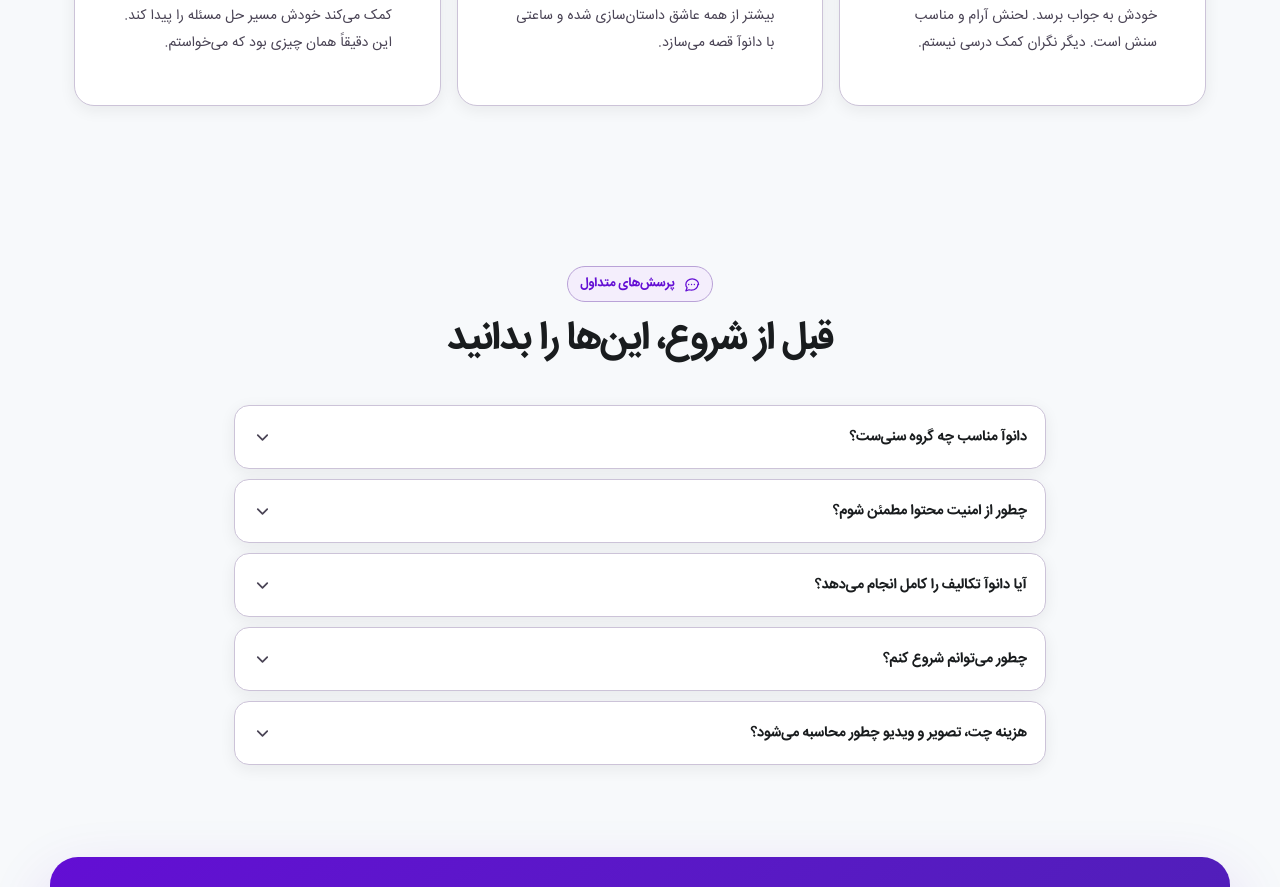
Scenario: LandingPage — FAQ keyboard › toggles FAQ answer on click
(page scrolled)
Click the button "دانوآ مناسب چه گروه سنی‌ست؟" at (938, 437), box [235, 406, 1045, 468]
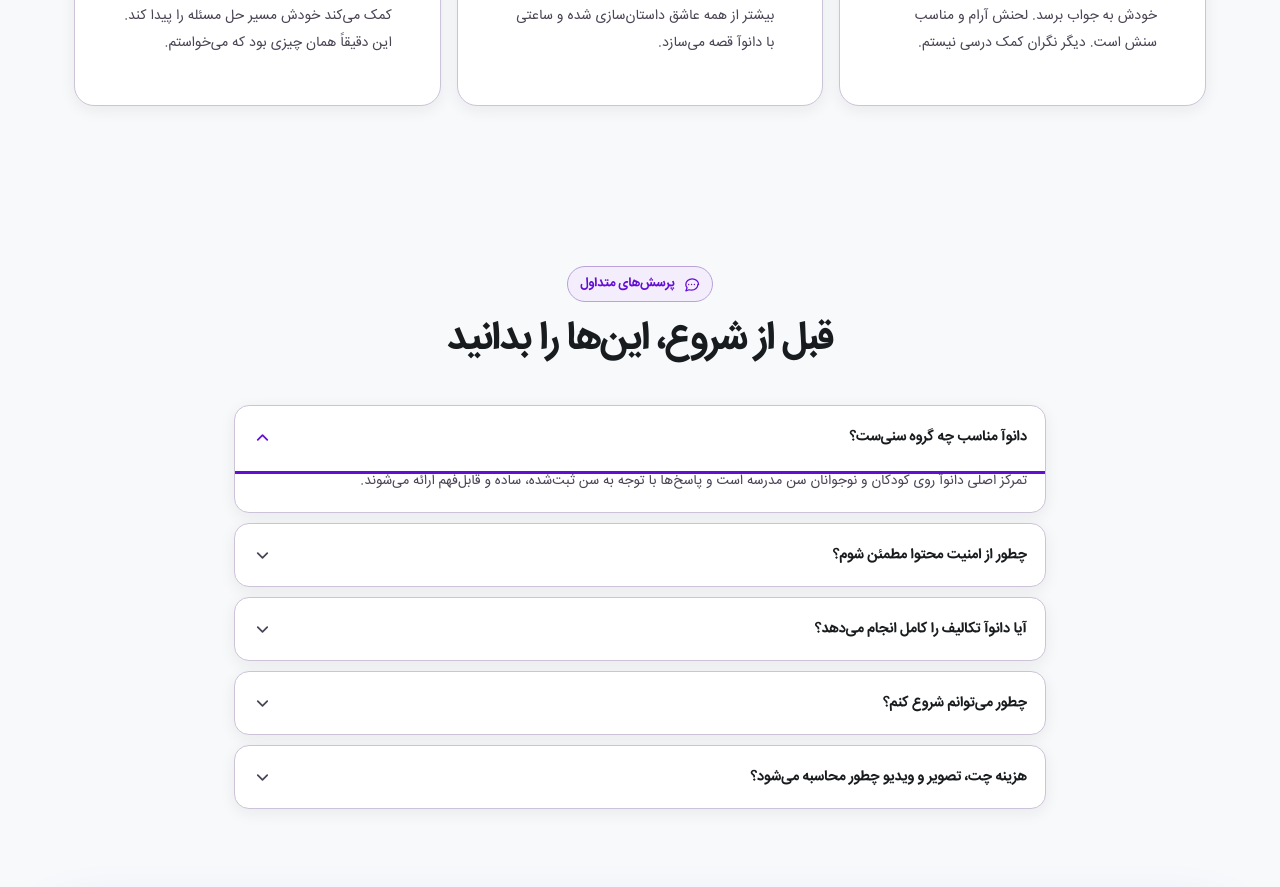
Check: the button "دانوآ مناسب چه گروه سنی‌ست؟" is expanded
Click the button "دانوآ مناسب چه گروه سنی‌ست؟" at (938, 437), box [235, 406, 1045, 468]
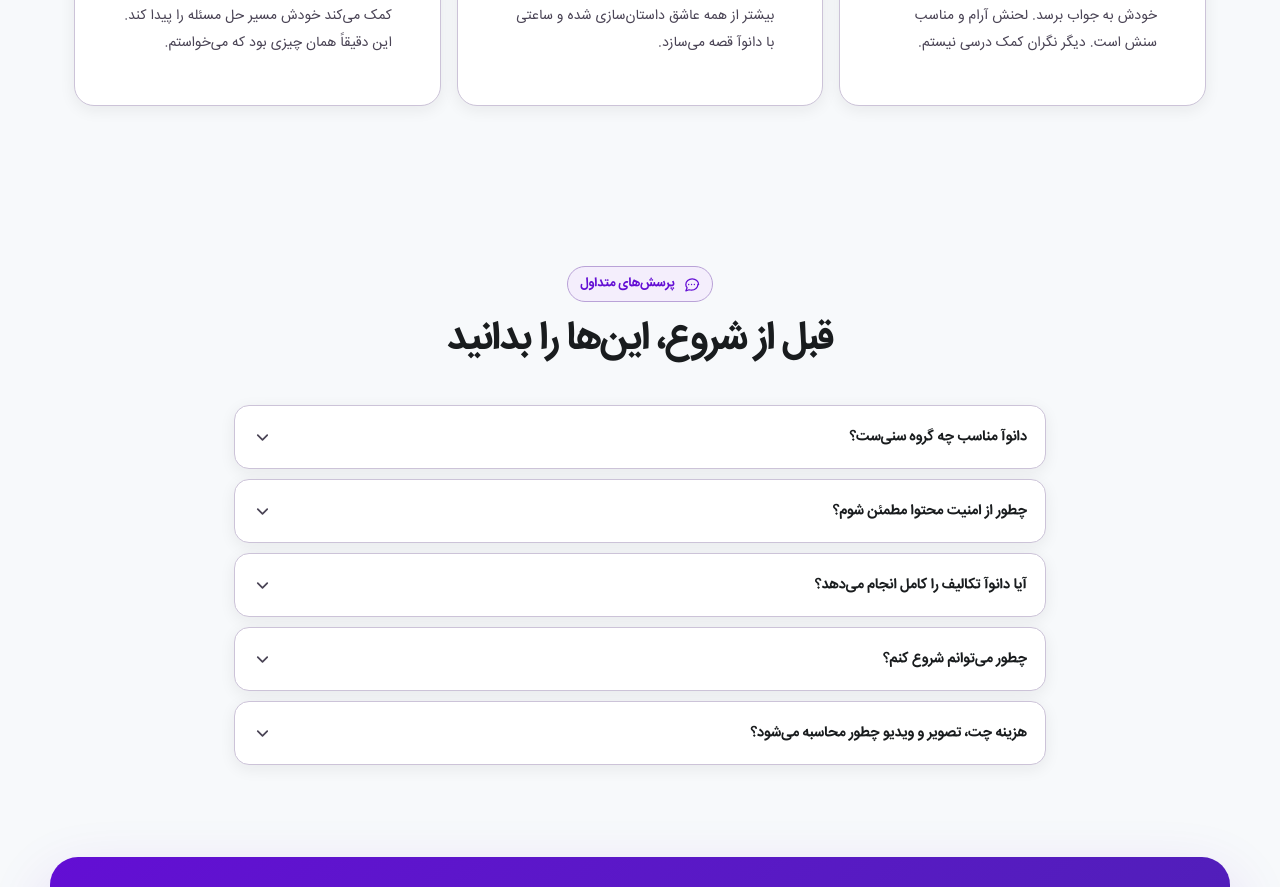
Check: the button "دانوآ مناسب چه گروه سنی‌ست؟" is collapsed, box [235, 406, 1045, 468]
